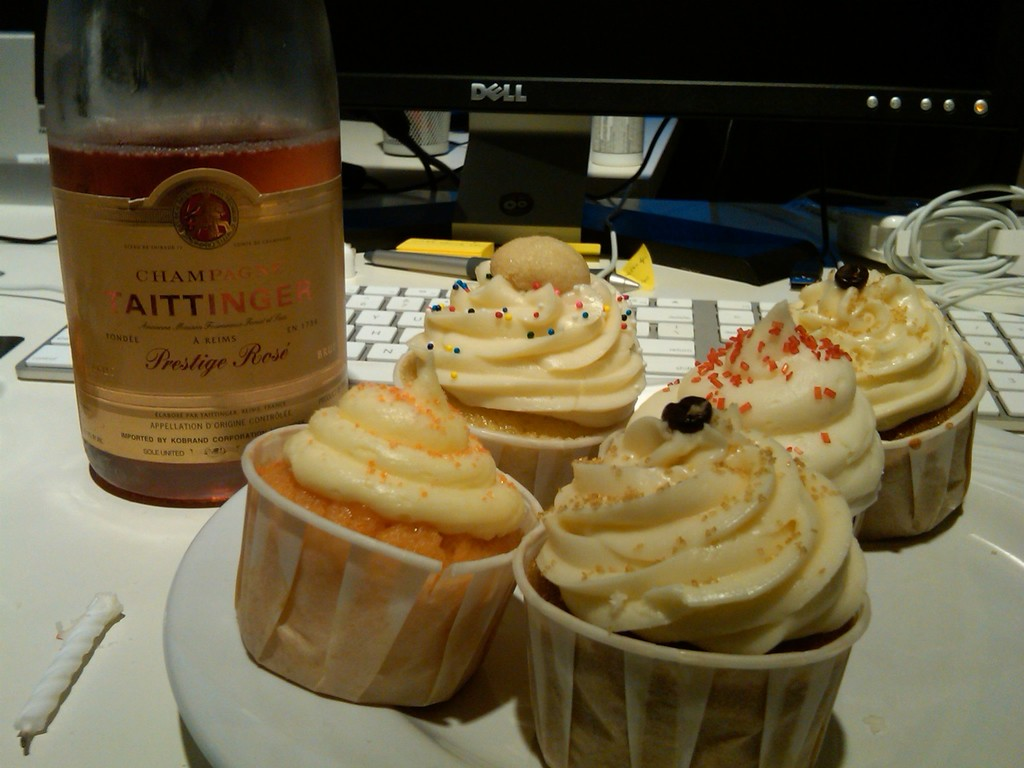Beer: (41, 108, 350, 508)
